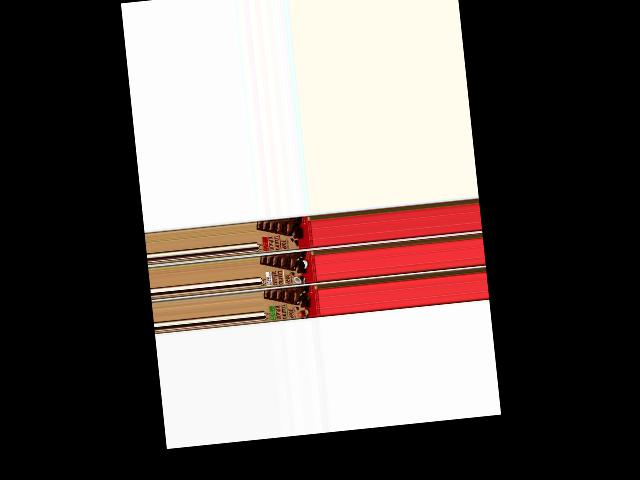chocolate: (262, 285, 321, 324)
